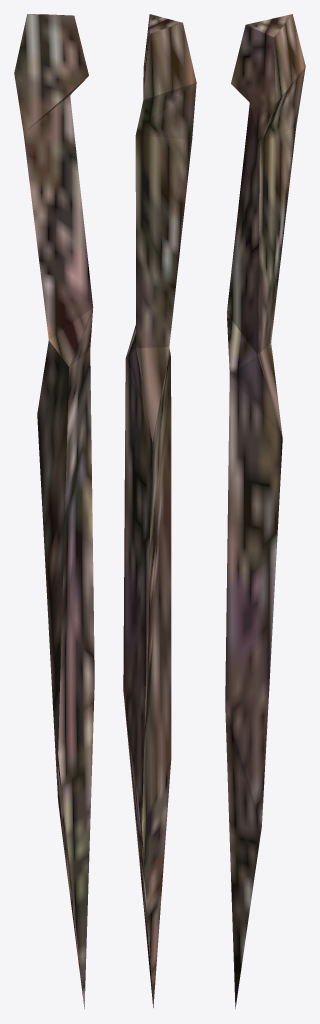
The model's file is staff.glb.
3 views of the same model, side by side, from view 1: azimuth 90°, elevation 25°; view 2: azimuth 210°, elevation 25°; view 3: azimuth 270°, elevation 25° (orthographic).
Parts seen in each view (by area): view 1: WeaponR; view 2: WeaponR; view 3: WeaponR.
Part boxes in pixels (<box>): WeaponR: <box>14,14,94,1008</box>; WeaponR: <box>123,14,196,1007</box>; WeaponR: <box>225,14,305,1008</box>.
Bounding box in the file's own units: 0.051 × 1.22 × 0.0892.
Materials: 1 (1 with a texture image).
